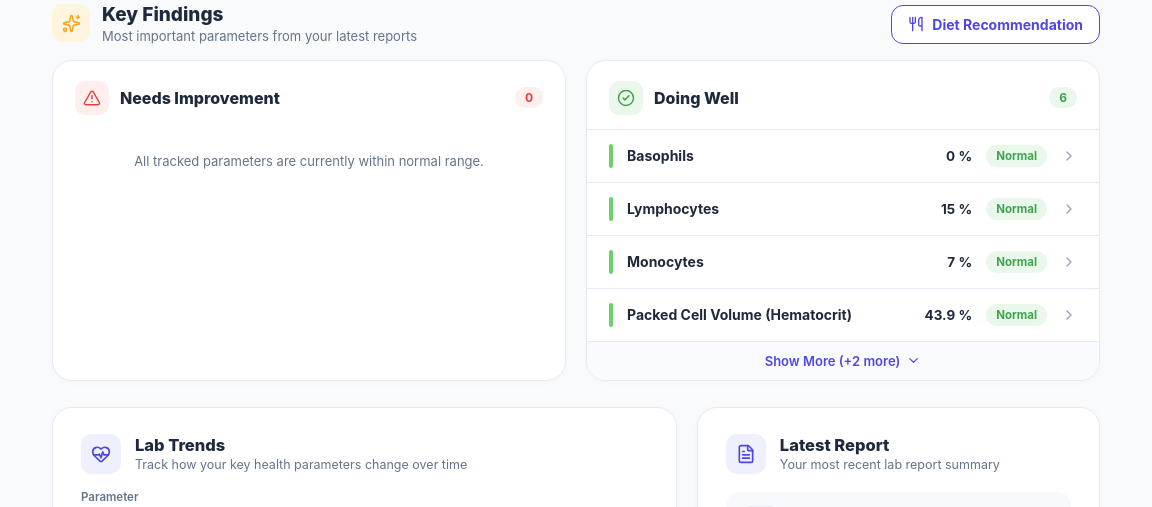
Test: TrendsPage Integration Tests › limits initial list to 4 items and toggles with "Show More" / "Show Less"
This screenshot has width=1152, height=507.
(page scrolled)
Expected: the text "Basophils" is shown, [627,147,694,164]
Expected: the text "Lymphocytes" is shown, [627,200,719,217]
// Clicking Show More expands the list
Click the button "Show More (+2 more)" at (843, 360), box [587,341,1099,380]
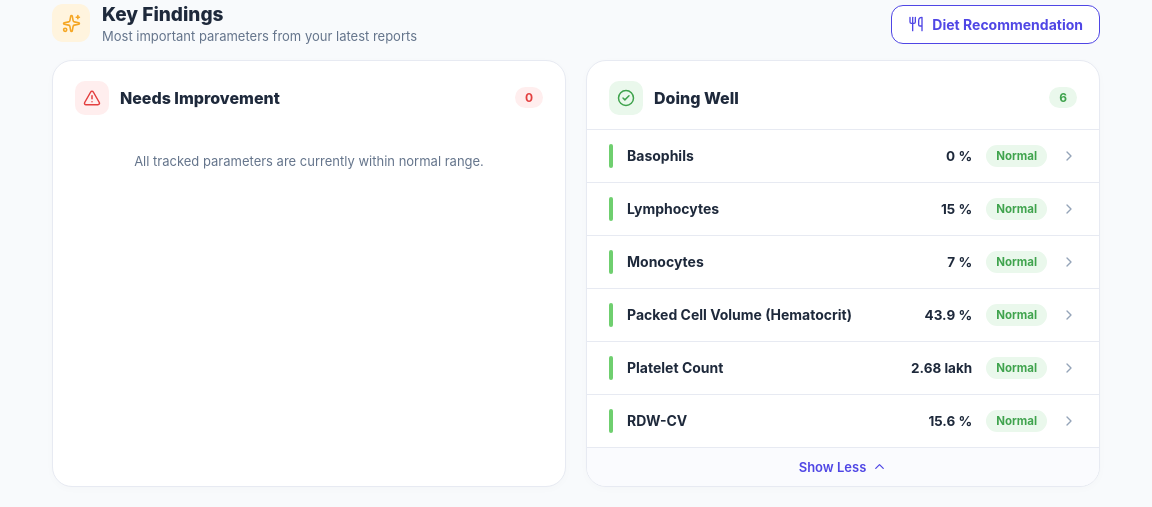
Now the text "Platelet Count" is shown, box [627,359,723,376]
Now the text "RDW-CV" is shown, box [627,412,687,429]
Now the text "Show Less" is shown, box [799,459,866,475]
// Clicking Show Less collapses it again
Click the button "Show Less" at (843, 466), box [587,447,1099,486]
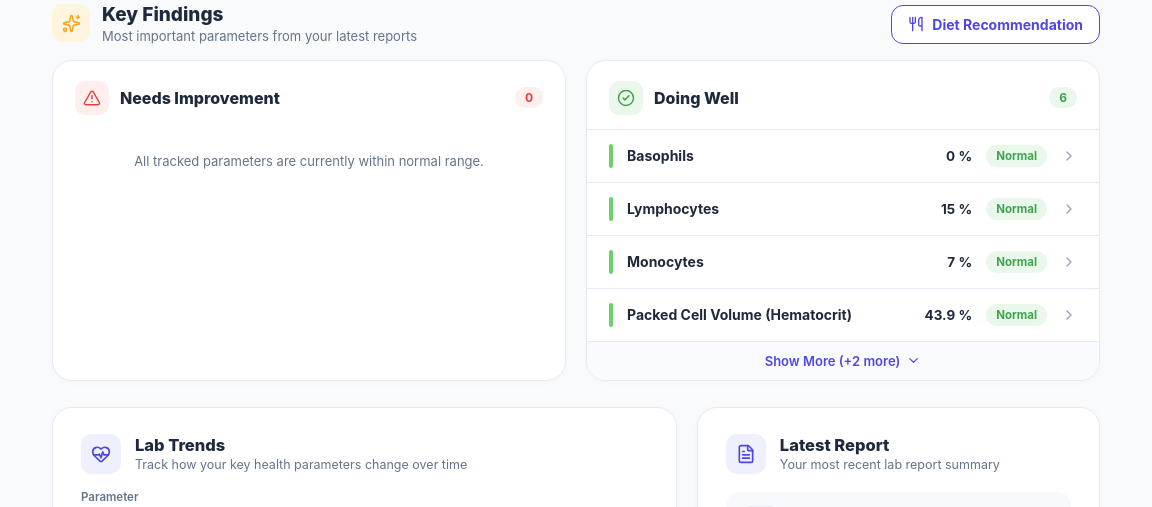
Now the text "Platelet Count" is gone
